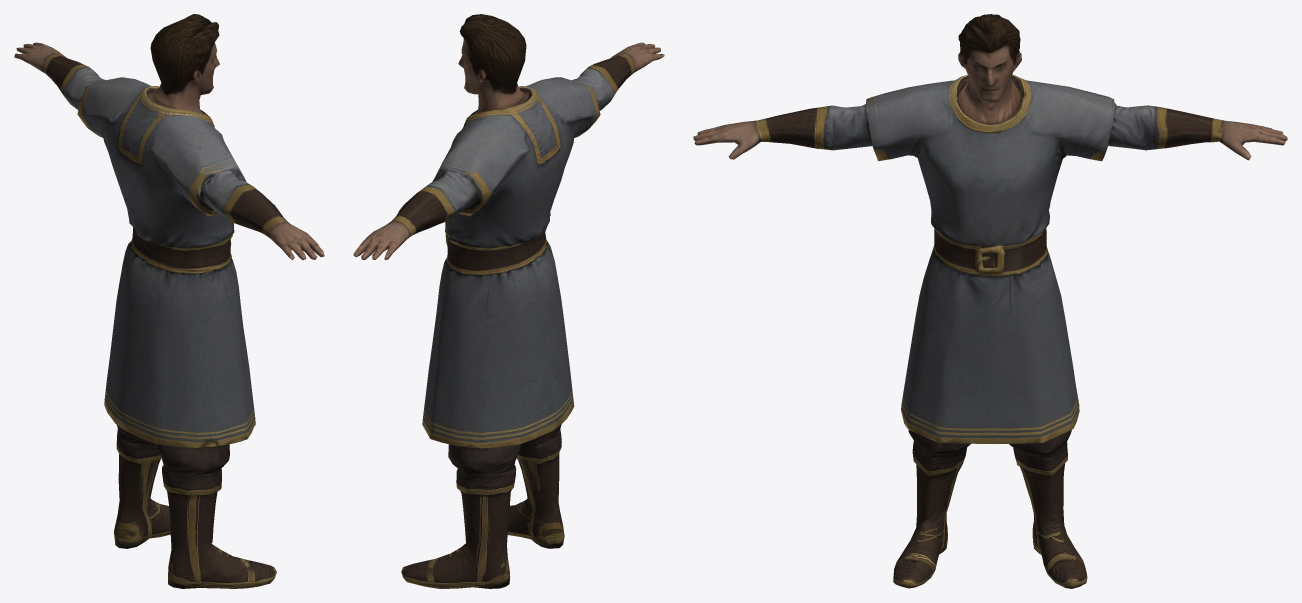
File: tripo_convert_1e145e24-daaf-44d5-97f5-bdeca1177db2.fbx
The picture shows the model from 3 angles, left to right: view 1: azimuth 30°, elevation 25°; view 2: azimuth 150°, elevation 25°; view 3: azimuth 270°, elevation 25°; orthographic projection. The views are drawn at different scales.
Visible parts, largest first — view 1: tripo_node_1e145e24; view 2: tripo_node_1e145e24; view 3: tripo_node_1e145e24.
Part boxes in pixels (bbox=[...]): tripo_node_1e145e24: bbox=[14, 14, 324, 588]; tripo_node_1e145e24: bbox=[353, 14, 664, 588]; tripo_node_1e145e24: bbox=[693, 14, 1287, 588].
Bounding box in the file's own units: 0.2266 × 0.9987 × 0.9795.
